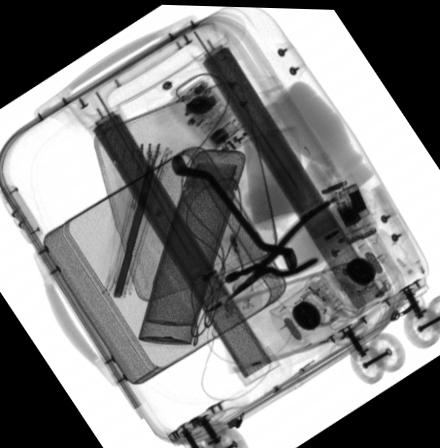Pliers: (225, 195, 331, 299)
Wrench: (169, 152, 297, 267)
